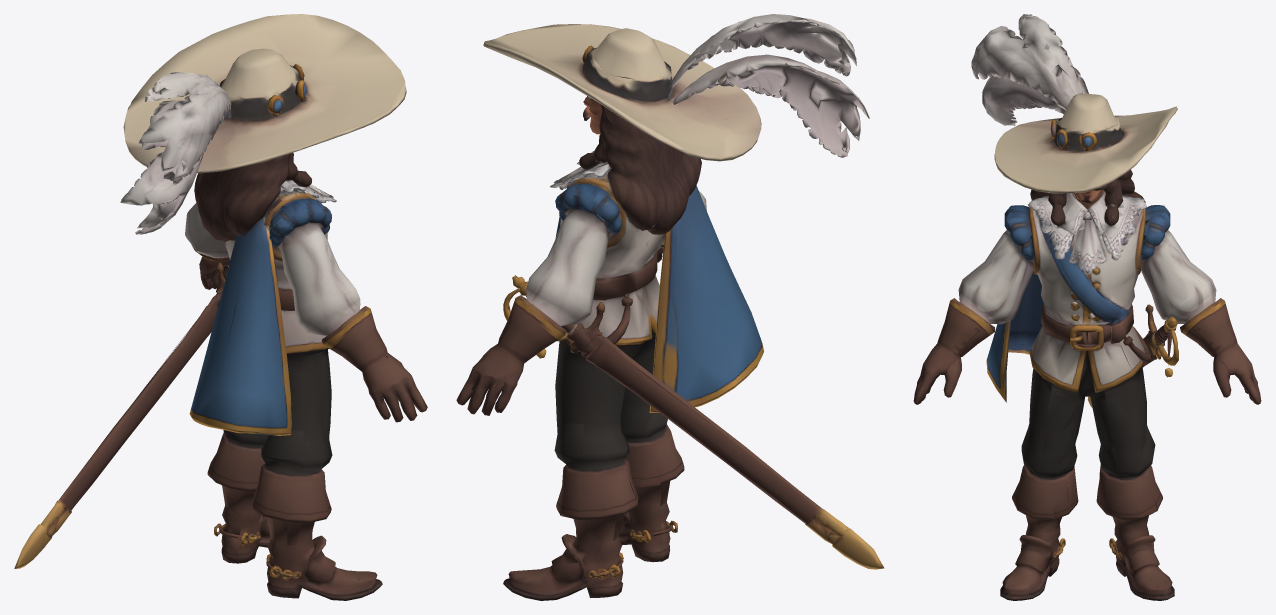
File: duelist_tripo.glb
The picture shows the model from 3 angles, left to right: view 1: azimuth 30°, elevation 25°; view 2: azimuth 150°, elevation 25°; view 3: azimuth 270°, elevation 25°; orthographic projection. The views are drawn at different scales.
Parts seen in each view (by area): view 1: tripo_node_8c5434c6-13a0-4bad-b24e-69113a17e62a; view 2: tripo_node_8c5434c6-13a0-4bad-b24e-69113a17e62a; view 3: tripo_node_8c5434c6-13a0-4bad-b24e-69113a17e62a.
Part boxes in pixels (bbox=[...]): tripo_node_8c5434c6-13a0-4bad-b24e-69113a17e62a: bbox=[14, 14, 427, 600]; tripo_node_8c5434c6-13a0-4bad-b24e-69113a17e62a: bbox=[456, 14, 884, 600]; tripo_node_8c5434c6-13a0-4bad-b24e-69113a17e62a: bbox=[913, 14, 1261, 600].
Bounding box in the file's own units: 0.7208 × 0.9982 × 0.6355.
1 material, 1 textured.
